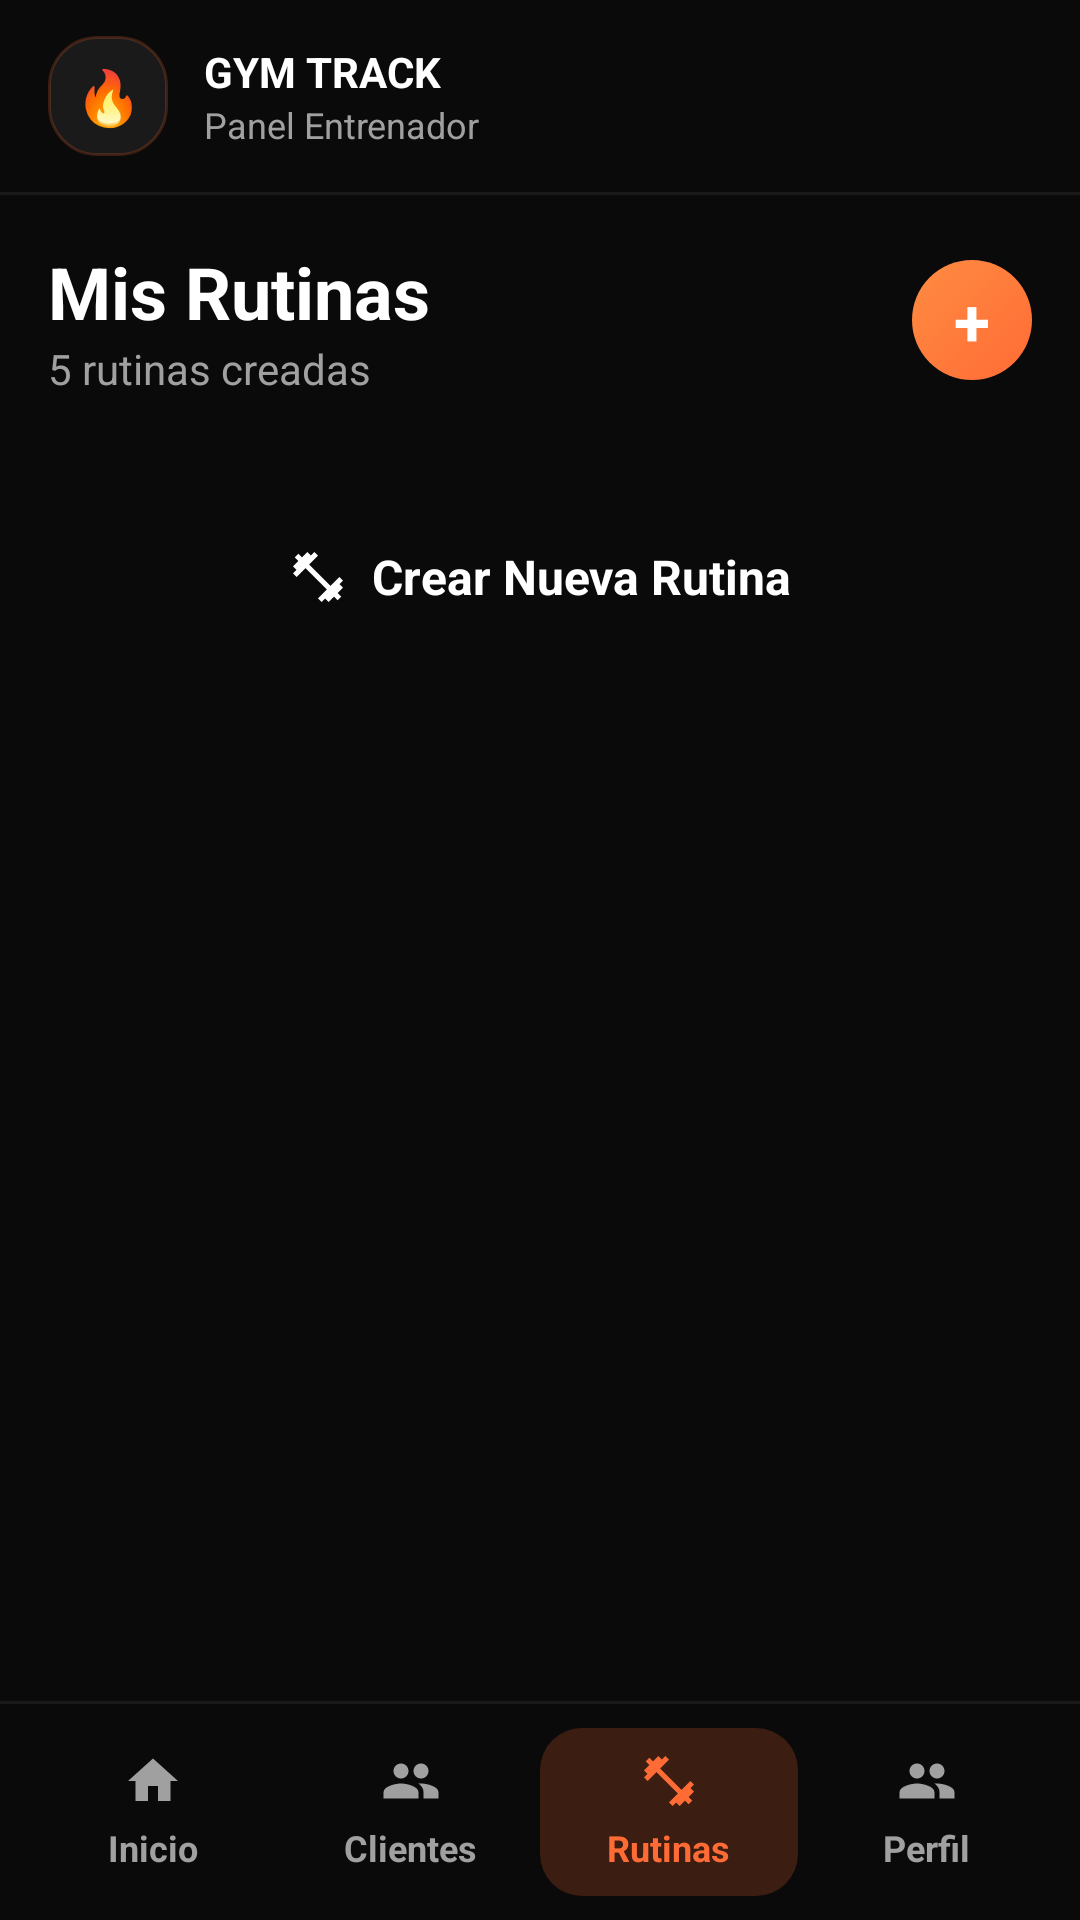

Screen size 1080w x 1920h. Icon name, then its box in pixels as (x1, y1, x2, y2):
dumbbell: (293, 552, 343, 602), (644, 1756, 694, 1806)
